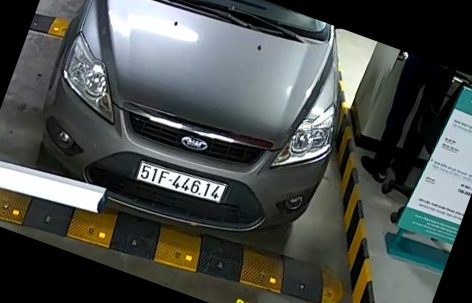plate: (131, 158, 240, 210)
